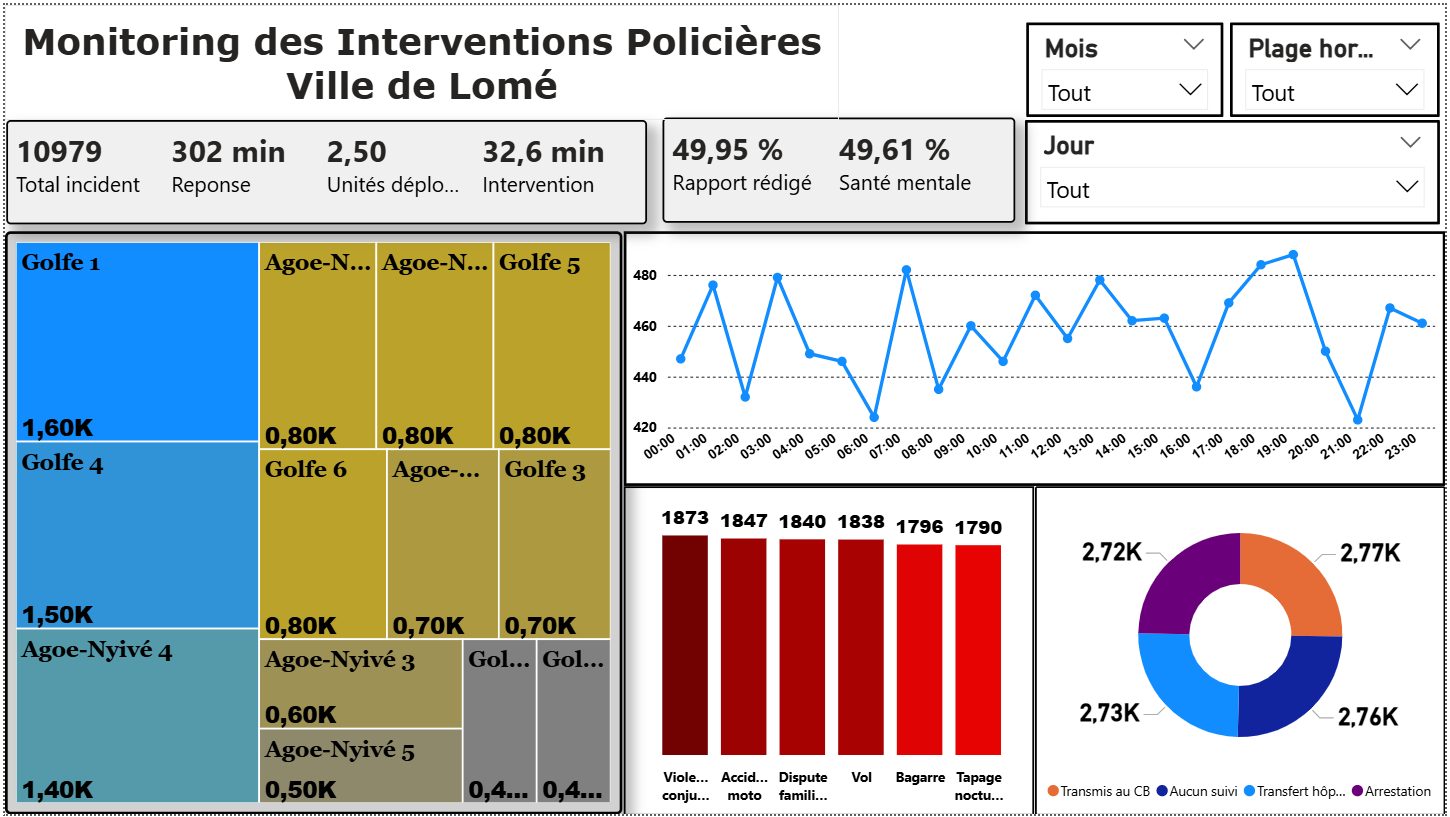

Layout of this report page (visuals, bound fields, positions):
{"tool":"powerbi","page":{"name":"Synthese","canvas":[1280,720],"ordinal":0},"visuals":[{"type":"slicer","fields":{"Values":["incidents_grand_lome.Jour"]},"box":[906.2,102.5,368.8,92.5],"z":0},{"type":"slicer","fields":{"Values":["incidents_grand_lome.Date_appel.Variation.Hiérarchie de dates.Mois"]},"box":[907.5,16,175,83.8],"z":1000},{"type":"slicer","fields":{"Values":["incidents_grand_lome.Segment_horaire_appel"]},"box":[1088.8,16,186.2,83.8],"z":2000},{"type":"treemap","fields":{"Group":["incidents_grand_lome.Commune"],"Values":["incidents_grand_lome.Total incident"]},"box":[0,201.2,548.8,518.8],"z":3000},{"type":"lineChart","title":"Total incident","fields":{"Y":["incidents_grand_lome.Total incident"],"Category":["incidents_grand_lome.HeureFormatée"]},"box":[550,201.2,730,226.2],"z":4000},{"type":"columnChart","fields":{"Category":["incidents_grand_lome.Type_incident"],"Y":["incidents_grand_lome.Total incident"]},"box":[550,427.5,365,292.5],"z":5000},{"type":"donutChart","fields":{"Category":["incidents_grand_lome.Conclusion_appel"],"Series":["incidents_grand_lome.Conclusion_appel"],"Y":["incidents_grand_lome.Total incident"]},"box":[915,427.5,365,292.5],"z":6000},{"type":"multiRowCard","fields":{"Values":["incidents_grand_lome.Total incident","incidents_grand_lome.Reponse","incidents_grand_lome.Unités déployées","incidents_grand_lome.Intervention"]},"box":[1.1,102.2,569.9,92.6],"z":7000},{"type":"multiRowCard","fields":{"Values":["incidents_grand_lome.Rapport rédigé","incidents_grand_lome.Santé mentale"]},"box":[584.7,99.8,313.7,93.2],"z":8000},{"type":"textbox","box":[0,0,741.2,102.5],"z":9000}]}

Visuals, with their boxes in screenshot pixels (x1, y1, x2, y2), scaled from the page's 1280x720 canvas onto the 1450x817 screenshot:
slicer - incidents_grand_lome.Jour: bbox(1027, 116, 1444, 221)
slicer - incidents_grand_lome.Date_appel.Variation.Hiérarchie de dates.Mois: bbox(1028, 18, 1226, 113)
slicer - incidents_grand_lome.Segment_horaire_appel: bbox(1233, 18, 1444, 113)
treemap - incidents_grand_lome.Commune x incidents_grand_lome.Total incident: bbox(0, 228, 622, 816)
"Total incident" lineChart: bbox(623, 228, 1449, 485)
columnChart - incidents_grand_lome.Type_incident x incidents_grand_lome.Total incident: bbox(623, 485, 1037, 816)
donutChart - incidents_grand_lome.Conclusion_appel x incidents_grand_lome.Conclusion_appel: bbox(1037, 485, 1449, 816)
multiRowCard - incidents_grand_lome.Total incident x incidents_grand_lome.Reponse: bbox(1, 116, 647, 221)
multiRowCard - incidents_grand_lome.Rapport rédigé x incidents_grand_lome.Santé mentale: bbox(662, 113, 1018, 219)
textbox: bbox(0, 0, 840, 116)
